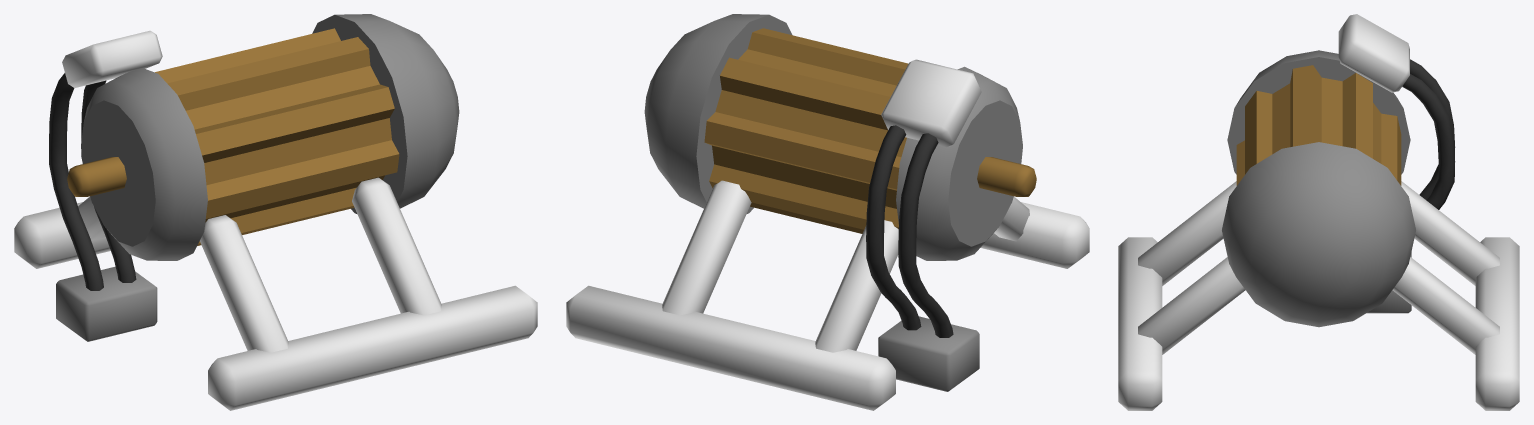
Rendered from engine_5.fbx.
3 renders of one model, left to right at view 1: azimuth 30°, elevation 25°; view 2: azimuth 150°, elevation 25°; view 3: azimuth 270°, elevation 25°, orthographic. The views are drawn at different scales.
Visible parts, largest first — view 1: engine_5; view 2: engine_5; view 3: engine_5.
Boxes of the visible parts, x1,y1,x2,y2 form: engine_5: [14, 14, 537, 410]; engine_5: [566, 14, 1089, 410]; engine_5: [1118, 14, 1519, 410].
Bounding box in the file's own units: 182 × 138 × 184.
